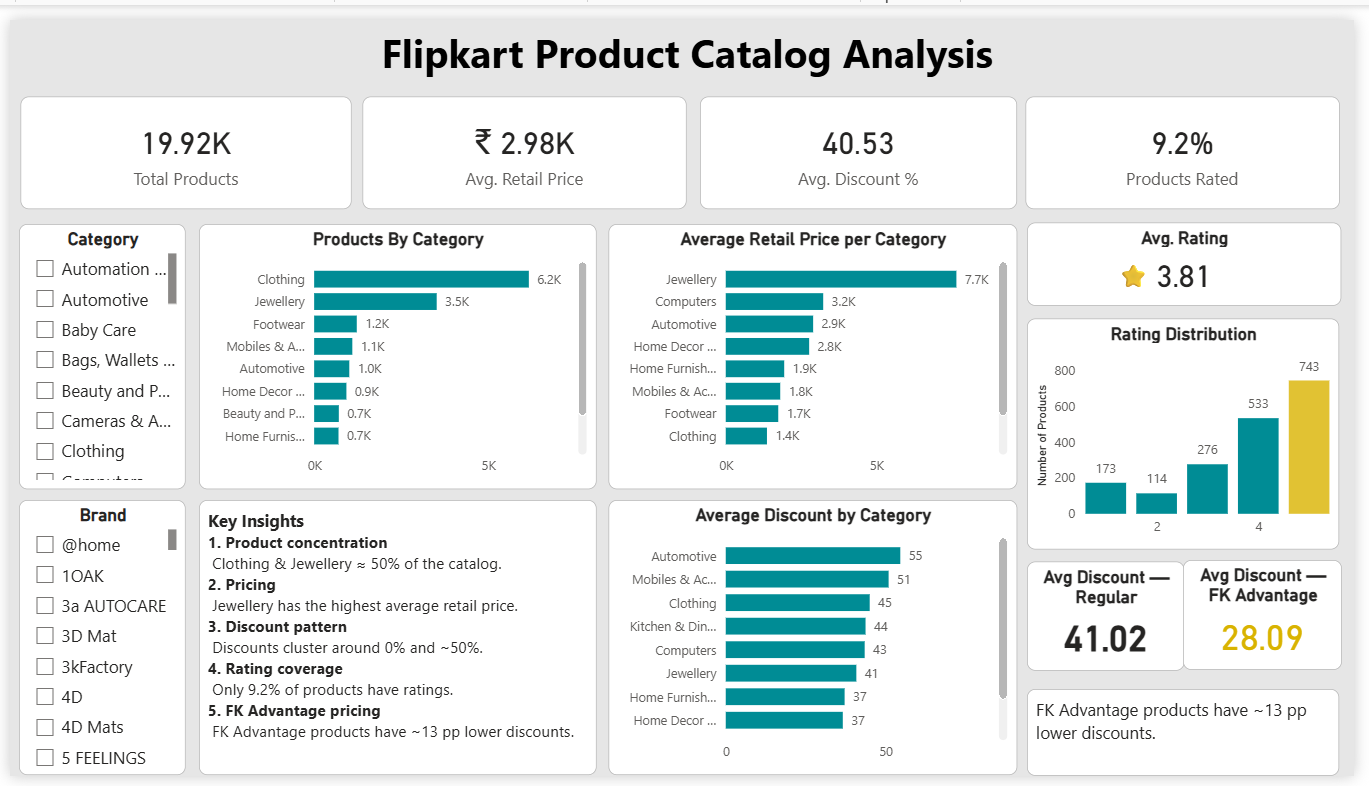

Layout of this report page (visuals, bound fields, positions):
{"tool":"powerbi","page":{"name":"Overview","canvas":[1280,720],"ordinal":0},"visuals":[{"type":"textbox","box":[9.4,0,1269.9,85],"z":0},{"type":"card","title":"Total Products","fields":{"Values":["CountNonNull(flipkart_cleaned.pid)"]},"box":[9.6,72.7,315.6,107],"z":1000},{"type":"card","fields":{"Values":["Avg(flipkart_cleaned.retail_price)"]},"box":[336.2,72.7,308.8,107],"z":2000},{"type":"card","fields":{"Values":["Avg(flipkart_cleaned.discount_pct)"]},"box":[657.3,72.7,301.9,107],"z":3000},{"type":"card","fields":{"Values":["flipkart_cleaned.% Rated"]},"box":[967.5,72.7,299.2,107],"z":4000},{"type":"clusteredBarChart","title":"Products By Category","fields":{"Category":["flipkart_cleaned.main_category"],"Y":["CountNonNull(flipkart_cleaned.pid)"]},"box":[180.2,193.8,378.6,252.9],"z":5000},{"type":"textbox","box":[180.2,457.3,378.6,262],"z":6000},{"type":"slicer","title":"Category","fields":{"Values":["flipkart_cleaned.main_category"]},"box":[9.1,193.8,159,252.9],"z":7000},{"type":"slicer","title":"Brand","fields":{"Values":["flipkart_cleaned.brand"]},"box":[9.1,457.3,159,262],"z":8000},{"type":"clusteredBarChart","title":"Average Discount by Category","fields":{"Y":["Avg(flipkart_cleaned.discount_pct)"],"Category":["flipkart_cleaned.main_category"]},"box":[569.3,457.3,389.2,262],"z":9000},{"type":"card","title":"Avg Discount — Regular","fields":{"Values":["Avg(flipkart_cleaned.discount_pct)"]},"box":[969.2,515,150,104.1],"z":10000},{"type":"card","title":"Avg Discount — FK Advantage","fields":{"Values":["Avg(flipkart_cleaned.discount_pct)"]},"box":[1117.6,514.7,151.5,104.4],"z":11000},{"type":"textbox","box":[969.1,636.8,297.1,82.4],"z":12000},{"type":"clusteredBarChart","title":"Average Retail Price per Category","fields":{"Category":["flipkart_cleaned.main_category"],"Y":["Avg(flipkart_cleaned.retail_price)"]},"box":[569.3,193.8,389.2,252.9],"z":13000},{"type":"card","title":"Avg. Rating","fields":{"Values":["Avg(flipkart_cleaned.product_rating)"]},"box":[968.9,193.5,299.2,79.6],"z":14000},{"type":"clusteredColumnChart","title":"Rating Distribution ","fields":{"Category":["flipkart_cleaned.Rating Bucket"],"Y":["CountNonNull(flipkart_cleaned.pid)"]},"box":[969.2,283.9,297.4,220.3],"z":15000},{"type":"textbox","box":[1044.9,223,47.3,40.6],"z":16000}]}

Visuals, with their boxes in screenshot pixels (x1, y1, x2, y2), scaled from the page's 1280x720 canvas onto the 1369x786 screenshot:
textbox: select_region(10, 0, 1368, 93)
"Total Products" card: select_region(10, 79, 348, 196)
card - Avg(flipkart_cleaned.retail_price): select_region(360, 79, 690, 196)
card - Avg(flipkart_cleaned.discount_pct): select_region(703, 79, 1026, 196)
card - flipkart_cleaned.% Rated: select_region(1035, 79, 1355, 196)
"Products By Category" clusteredBarChart: select_region(193, 212, 598, 488)
textbox: select_region(193, 499, 598, 785)
"Category" slicer: select_region(10, 212, 180, 488)
"Brand" slicer: select_region(10, 499, 180, 785)
"Average Discount by Category" clusteredBarChart: select_region(609, 499, 1025, 785)
"Avg Discount — Regular" card: select_region(1037, 562, 1197, 676)
"Avg Discount — FK Advantage" card: select_region(1195, 562, 1357, 676)
textbox: select_region(1036, 695, 1354, 785)
"Average Retail Price per Category" clusteredBarChart: select_region(609, 212, 1025, 488)
"Avg. Rating" card: select_region(1036, 211, 1356, 298)
"Rating Distribution " clusteredColumnChart: select_region(1037, 310, 1355, 550)
textbox: select_region(1118, 243, 1168, 288)
